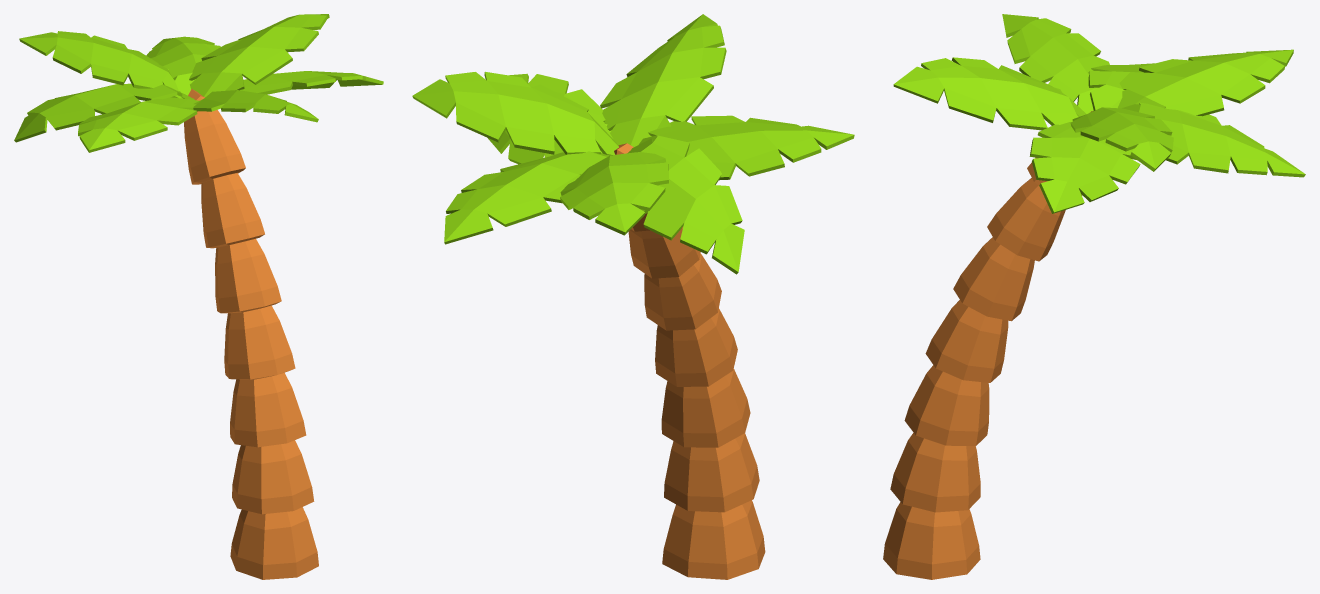
The model's file is PalmTree2.fbx.
The picture shows the model from 3 angles, left to right: view 1: azimuth 30°, elevation 25°; view 2: azimuth 150°, elevation 25°; view 3: azimuth 270°, elevation 25°; orthographic projection. The views are drawn at different scales.
Visible parts, largest first — view 1: Trunk, Leaf7, Leaf1, Leaf6, Leaf3, Leaf2, Leaf4, Leaf5; view 2: Trunk, Leaf7, Leaf4, Leaf6, Leaf2, Leaf3, Leaf1, Leaf5; view 3: Trunk, Leaf4, Leaf1, Leaf5, Leaf3, Leaf2, Leaf7, Leaf6.
Boxes of the visible parts, left/top/right/bottom form: Trunk: left=184, top=89, right=318, bottom=579; Leaf7: left=189, top=14, right=329, bottom=97; Leaf1: left=19, top=31, right=182, bottom=98; Leaf6: left=14, top=83, right=194, bottom=142; Leaf3: left=78, top=97, right=199, bottom=152; Leaf2: left=146, top=36, right=220, bottom=95; Leaf4: left=193, top=90, right=318, bottom=122; Leaf5: left=240, top=71, right=383, bottom=94; Trunk: left=614, top=143, right=765, bottom=579; Leaf7: left=412, top=71, right=618, bottom=155; Leaf4: left=600, top=14, right=726, bottom=146; Leaf6: left=627, top=135, right=744, bottom=274; Leaf2: left=444, top=151, right=609, bottom=244; Leaf3: left=638, top=115, right=854, bottom=180; Leaf1: left=560, top=152, right=668, bottom=235; Leaf5: left=488, top=73, right=611, bottom=164; Trunk: left=883, top=111, right=1093, bottom=579; Leaf4: left=893, top=57, right=1086, bottom=130; Leaf1: left=1118, top=49, right=1293, bottom=116; Leaf5: left=1029, top=122, right=1140, bottom=213; Leaf3: left=1002, top=14, right=1109, bottom=113; Leaf2: left=1122, top=102, right=1305, bottom=177; Leaf7: left=1070, top=107, right=1173, bottom=171; Leaf6: left=1088, top=63, right=1154, bottom=110.
Bounding box in the file's own units: 715 × 979 × 753.
